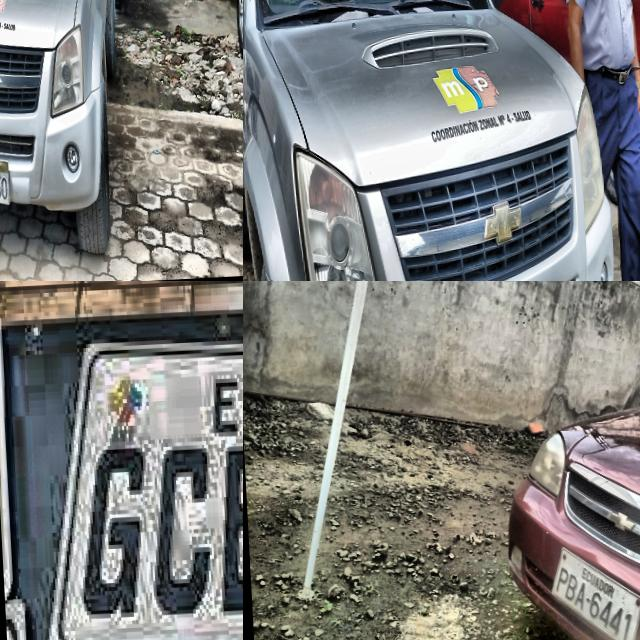license_plate: (44, 322, 243, 640), (547, 540, 640, 640), (0, 159, 10, 210)
